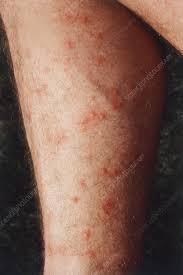Chiggers: (100, 157, 143, 183), (75, 102, 113, 131), (99, 78, 129, 110), (57, 8, 93, 28), (97, 192, 119, 216), (84, 68, 103, 92), (94, 32, 117, 46), (73, 177, 94, 191), (46, 132, 69, 144), (92, 50, 111, 64), (85, 249, 101, 263), (122, 71, 136, 86), (80, 226, 92, 241), (33, 82, 47, 94), (63, 40, 77, 49), (70, 196, 79, 204)
